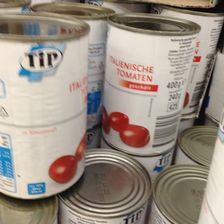tomato_sauce: (1, 13, 91, 199), (100, 13, 202, 157)
